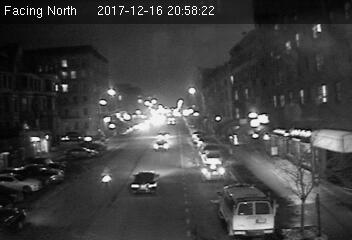car: (127, 170, 163, 195), (199, 162, 227, 182), (152, 139, 171, 151)
police: (215, 183, 276, 235)
